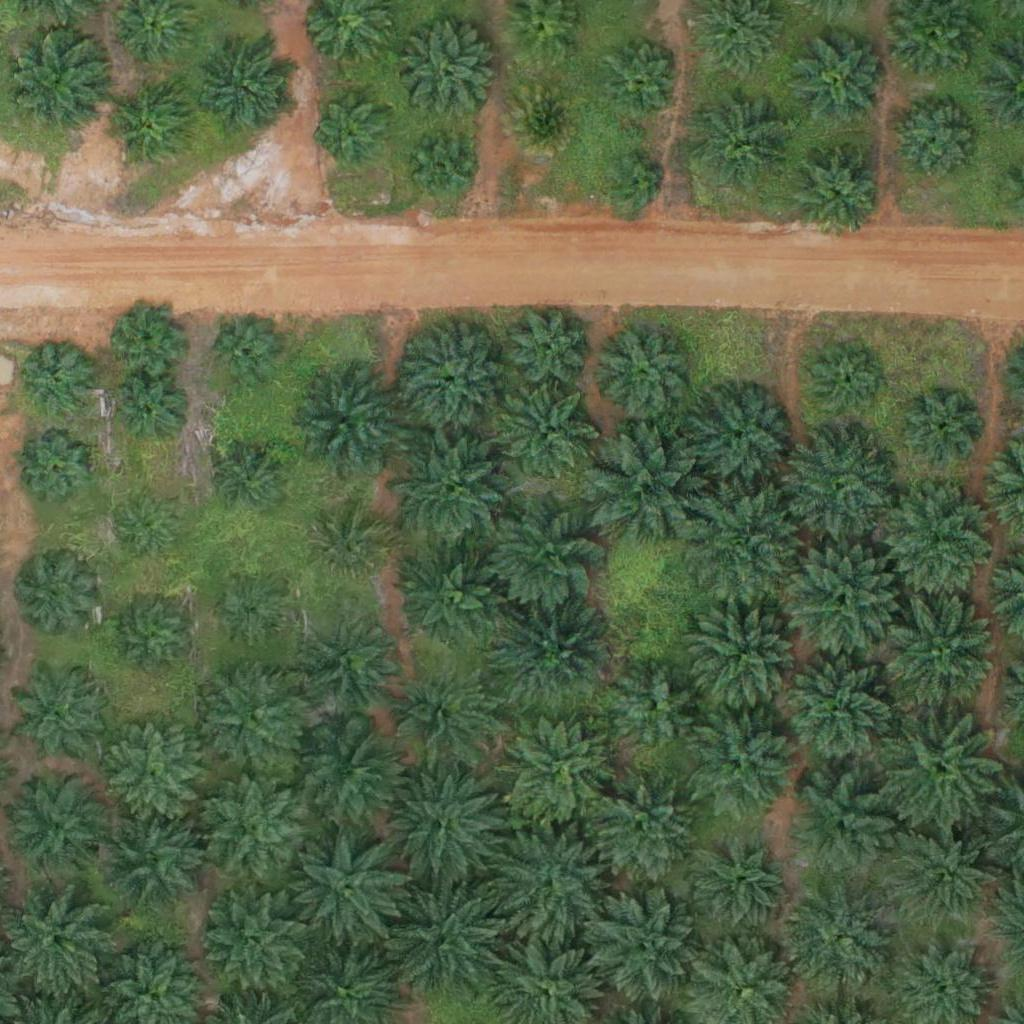Kelapa_Sawit: (282, 361, 407, 487), (284, 827, 409, 953), (389, 422, 514, 548), (484, 492, 609, 618), (581, 425, 706, 551), (684, 484, 809, 610), (778, 649, 903, 775), (879, 591, 1004, 717), (878, 706, 1003, 832), (690, 602, 803, 716), (782, 887, 895, 1001), (292, 718, 405, 831), (388, 772, 501, 885), (688, 707, 801, 820), (681, 825, 794, 938), (782, 773, 895, 886), (882, 484, 995, 597), (384, 884, 497, 997), (785, 540, 897, 654), (890, 819, 1002, 933), (198, 658, 310, 771), (200, 773, 312, 886), (398, 544, 510, 657), (385, 660, 497, 773), (497, 597, 609, 710), (502, 716, 614, 829), (495, 826, 607, 939), (583, 771, 695, 884), (780, 425, 892, 538), (587, 887, 699, 1000), (198, 889, 310, 1002), (198, 38, 298, 139), (11, 24, 111, 125), (399, 325, 499, 426), (787, 140, 887, 240), (693, 90, 793, 190), (399, 22, 499, 122), (10, 664, 110, 764), (12, 779, 112, 879), (103, 725, 203, 825), (102, 813, 202, 913), (498, 382, 598, 482), (688, 388, 788, 488), (108, 80, 196, 169), (892, 96, 980, 184), (15, 550, 103, 638), (110, 593, 198, 681), (612, 663, 700, 751), (797, 36, 884, 124), (307, 616, 394, 704), (504, 303, 591, 391), (598, 329, 685, 417), (809, 346, 884, 422), (603, 40, 678, 116), (507, 81, 582, 157), (405, 130, 480, 206), (313, 509, 388, 584), (906, 390, 981, 465), (315, 89, 390, 164), (21, 342, 96, 417), (21, 434, 96, 509), (105, 300, 180, 375), (109, 378, 184, 453), (207, 315, 282, 390), (210, 445, 285, 520), (216, 575, 291, 650), (605, 153, 667, 216), (115, 497, 177, 560)
